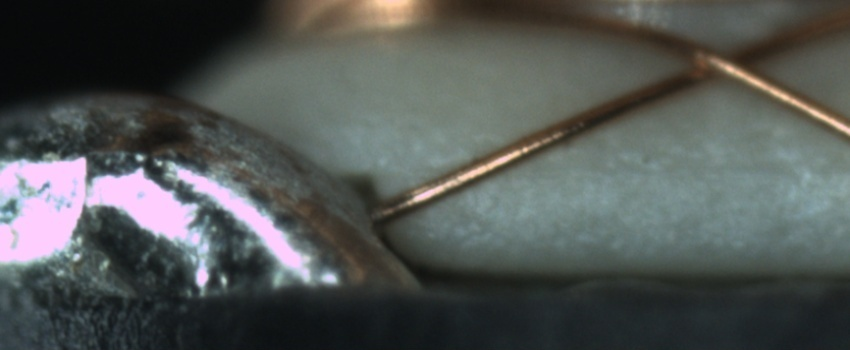CL: (665, 30, 788, 91)
DL: (522, 138, 849, 202)
